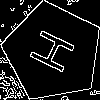H: (28, 27, 86, 80)
